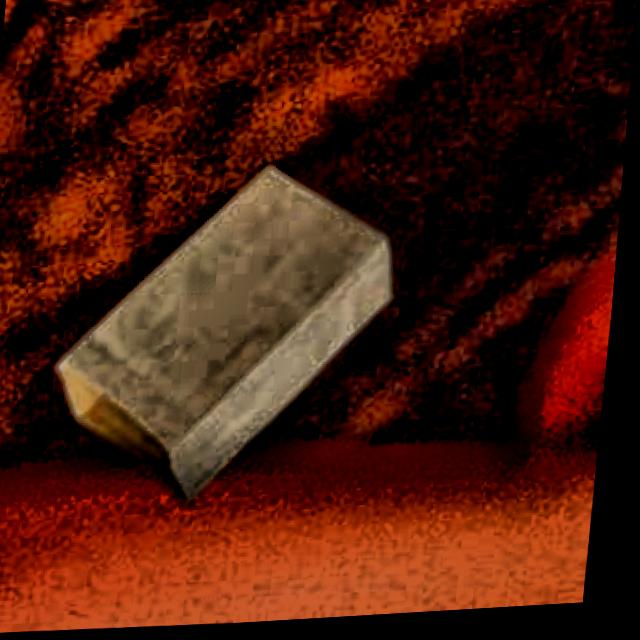Paper-bag: (34, 145, 422, 531)
